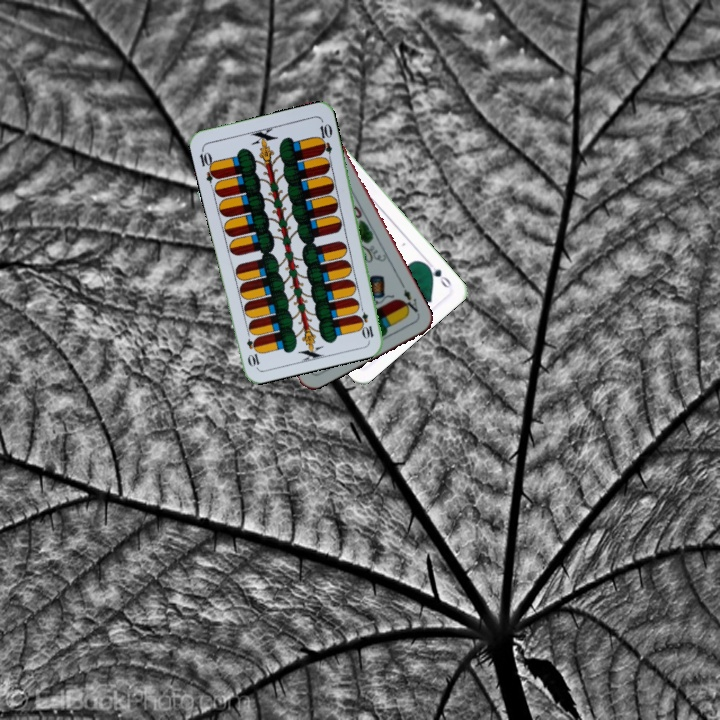E10: (195, 145, 221, 185), (355, 301, 376, 341)
EA: (398, 285, 423, 319)
GO: (421, 257, 454, 291)
